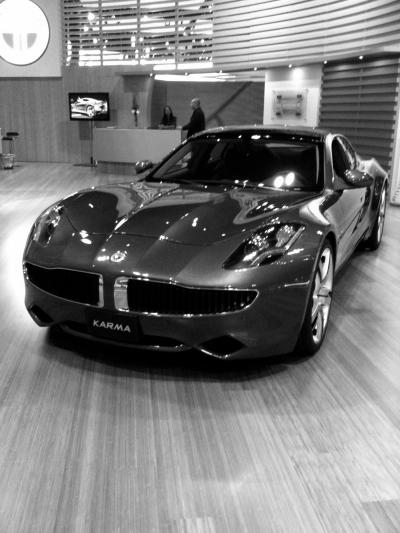car: (21, 121, 390, 381)
